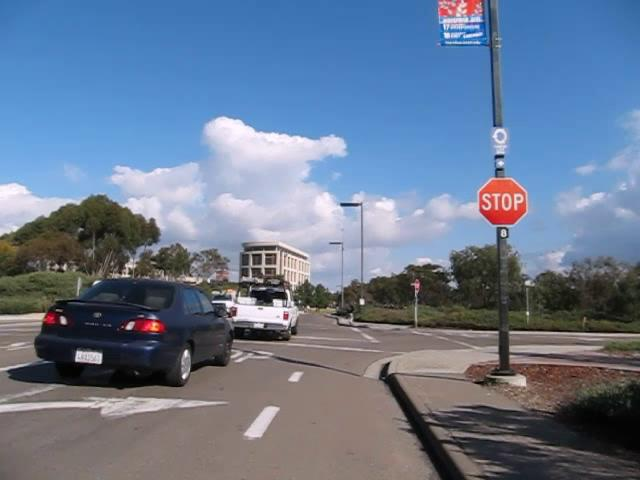stop: (477, 177, 528, 226)
